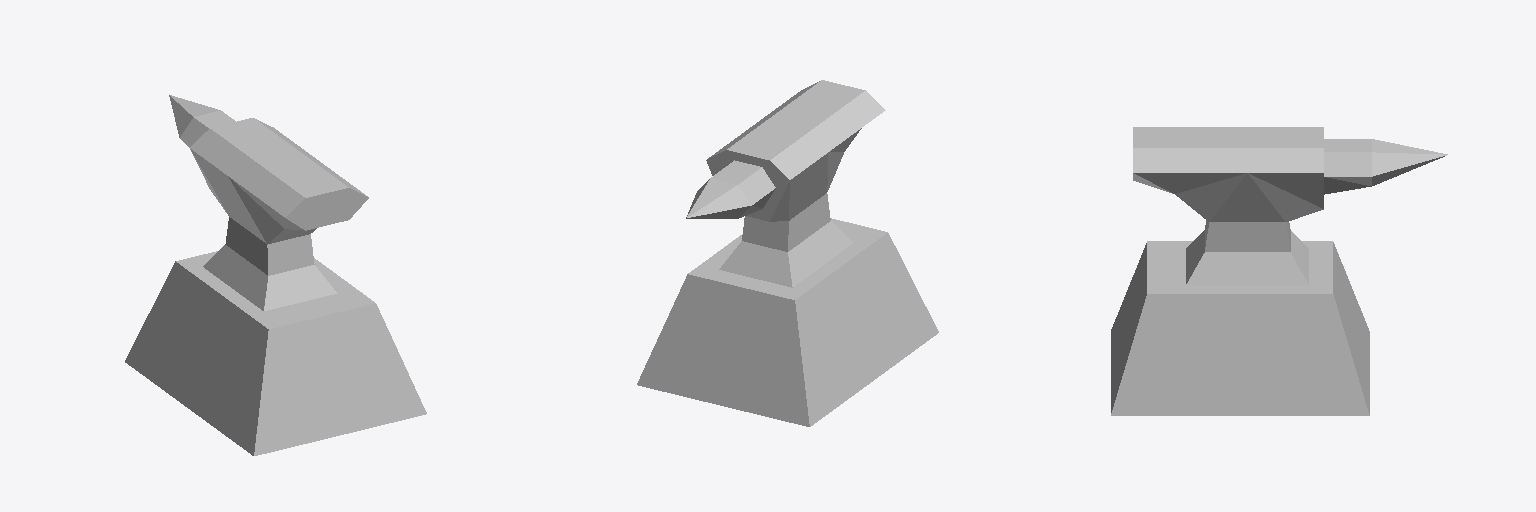
Rendered from anvil.obj.
The picture shows the model from 3 angles: view 1: azimuth 30°, elevation 25°; view 2: azimuth 150°, elevation 25°; view 3: azimuth 270°, elevation 25°; orthographic projection.
Visible parts, largest first — view 1: anvil001, anvil; view 2: anvil001, anvil; view 3: anvil001, anvil.
Boxes of the visible parts, x1=… form: anvil001: x1=125, y1=251, x2=426, y2=455; anvil: x1=169, y1=95, x2=368, y2=310; anvil001: x1=637, y1=218, x2=938, y2=426; anvil: x1=686, y1=80, x2=885, y2=287; anvil001: x1=1111, y1=241, x2=1369, y2=415; anvil: x1=1133, y1=127, x2=1447, y2=284.
Bounding box in the file's own units: 1.12 × 1.45 × 1.89.